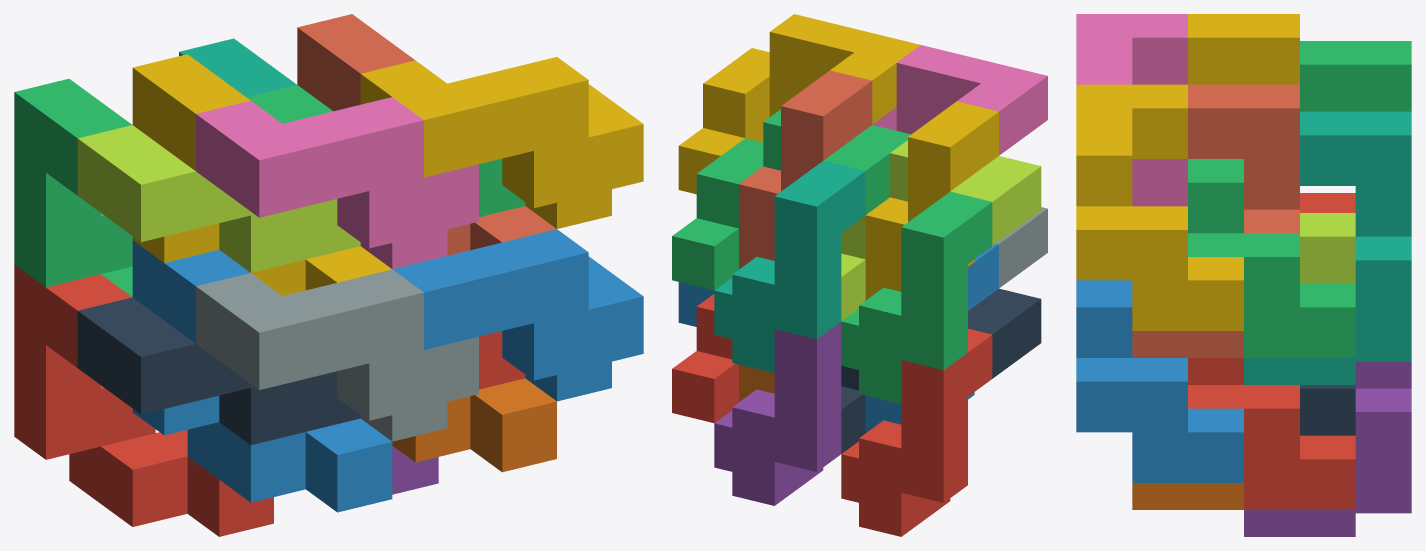
File: tiling.obj
3 views of the same model, side by side, from view 1: azimuth 30°, elevation 25°; view 2: azimuth 150°, elevation 25°; view 3: azimuth 270°, elevation 25° (orthographic). The views are drawn at different scales.
Parts seen in each view (by area): view 1: copy_2_domain_4, copy_2_domain_2, copy_1_domain_1, copy_2_domain_8, copy_2_domain_6, copy_1_domain_2, copy_2_domain_1, copy_2_domain_3, copy_1_domain_3, copy_1_domain_4, copy_1_domain_8, copy_1_domain_6 (+4 smaller); view 2: copy_1_domain_7, copy_1_domain_3, copy_1_domain_1, copy_2_domain_8, copy_1_domain_5, copy_2_domain_7, copy_1_domain_4, copy_1_domain_8, copy_2_domain_4, copy_2_domain_3, copy_2_domain_1, copy_2_domain_5 (+4 smaller); view 3: copy_2_domain_8, copy_1_domain_7, copy_2_domain_6, copy_2_domain_7, copy_1_domain_8, copy_2_domain_5, copy_1_domain_5, copy_2_domain_4, copy_1_domain_3, copy_1_domain_4, copy_2_domain_3, copy_1_domain_6 (+2 smaller).
Boxes of the visible parts, <box> form: copy_2_domain_4: <box>196,97,478,269</box>; copy_2_domain_2: <box>196,269,478,441</box>; copy_1_domain_1: <box>14,264,273,536</box>; copy_2_domain_8: <box>360,57,643,228</box>; copy_2_domain_6: <box>393,229,643,401</box>; copy_1_domain_2: <box>132,240,392,512</box>; copy_2_domain_1: <box>77,297,360,444</box>; copy_2_domain_3: <box>77,125,360,272</box>; copy_1_domain_3: <box>14,78,132,296</box>; copy_1_domain_4: <box>132,54,391,295</box>; copy_1_domain_8: <box>297,14,556,255</box>; copy_1_domain_6: <box>392,378,556,472</box>; copy_1_domain_7: <box>714,160,865,373</box>; copy_1_domain_3: <box>841,191,992,403</box>; copy_1_domain_1: <box>841,328,992,536</box>; copy_2_domain_8: <box>678,14,920,194</box>; copy_1_domain_5: <box>714,322,841,505</box>; copy_2_domain_7: <box>672,109,910,290</box>; copy_1_domain_4: <box>865,101,998,300</box>; copy_1_domain_8: <box>739,70,872,269</box>; copy_2_domain_4: <box>872,45,1047,155</box>; copy_2_domain_3: <box>841,140,1041,320</box>; copy_2_domain_1: <box>841,288,1041,453</box>; copy_2_domain_5: <box>672,294,738,423</box>; copy_2_domain_8: <box>1076,84,1243,330</box>; copy_1_domain_7: <box>1244,111,1411,384</box>; copy_2_domain_6: <box>1076,280,1243,482</box>; copy_2_domain_7: <box>1188,159,1355,357</box>; copy_1_domain_8: <box>1132,84,1299,357</box>; copy_2_domain_5: <box>1188,358,1355,509</box>; copy_1_domain_5: <box>1244,361,1411,536</box>; copy_2_domain_4: <box>1076,14,1187,206</box>; copy_1_domain_3: <box>1300,41,1411,111</box>; copy_1_domain_4: <box>1188,14,1299,84</box>; copy_2_domain_3: <box>1300,213,1355,283</box>; copy_1_domain_6: <box>1132,483,1243,509</box>.
Size of the model in its own units: 8 by 8 by 6.
